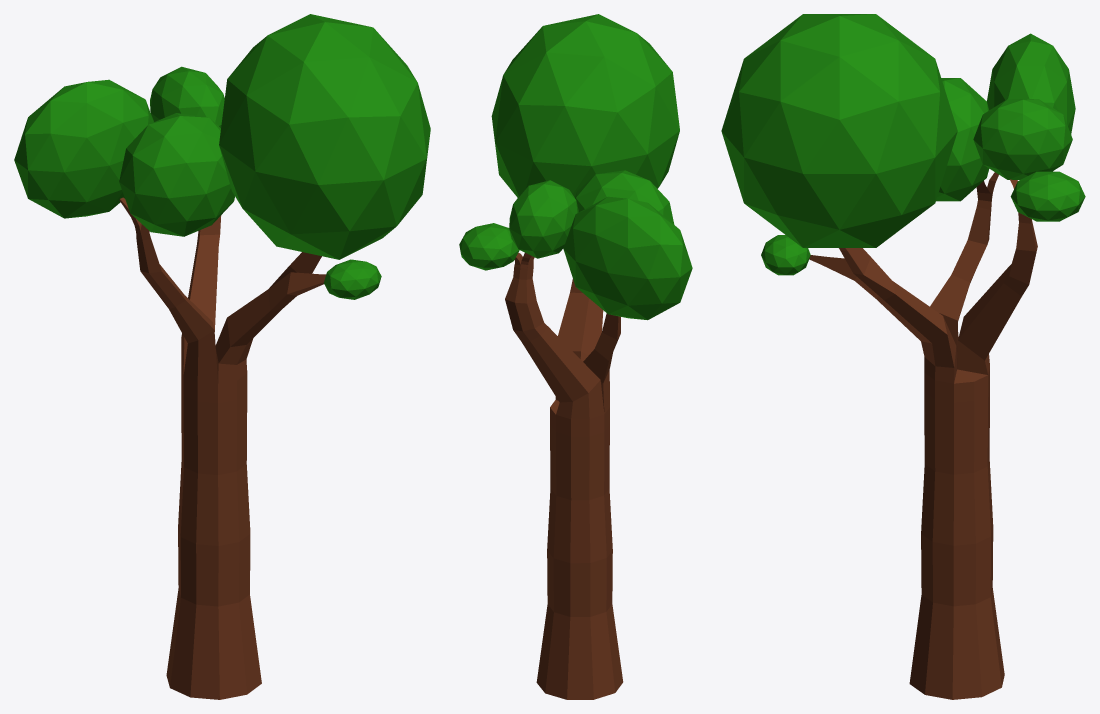
The model's file is tree.glb.
3 renders of one model, left to right at view 1: azimuth 30°, elevation 25°; view 2: azimuth 150°, elevation 25°; view 3: azimuth 270°, elevation 25°, orthographic. The views are drawn at different scales.
Parts seen in each view (by area): view 1: Cylinder; view 2: Cylinder; view 3: Cylinder.
Part boxes in pixels (x1,y1,x2,y2): Cylinder: [14, 14, 430, 699]; Cylinder: [459, 14, 692, 699]; Cylinder: [721, 14, 1085, 699].
Size of the model in its own units: 7.02 by 15.58 by 7.47.
